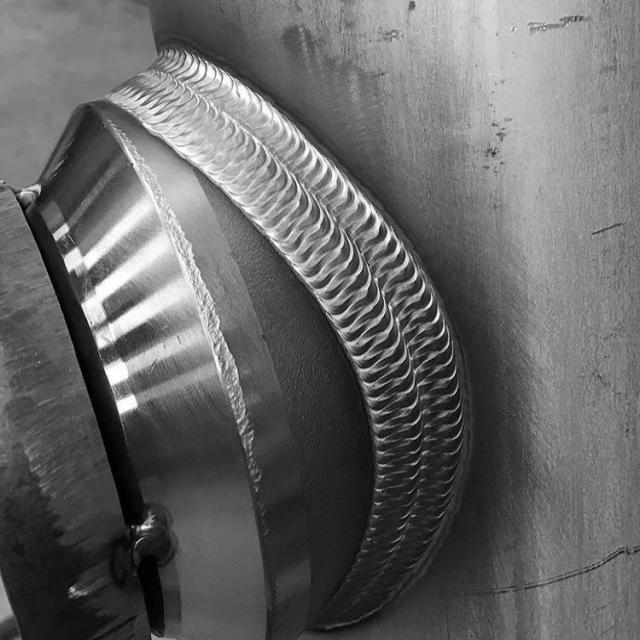Good Welding: (274, 243, 474, 630), (101, 41, 356, 240)
